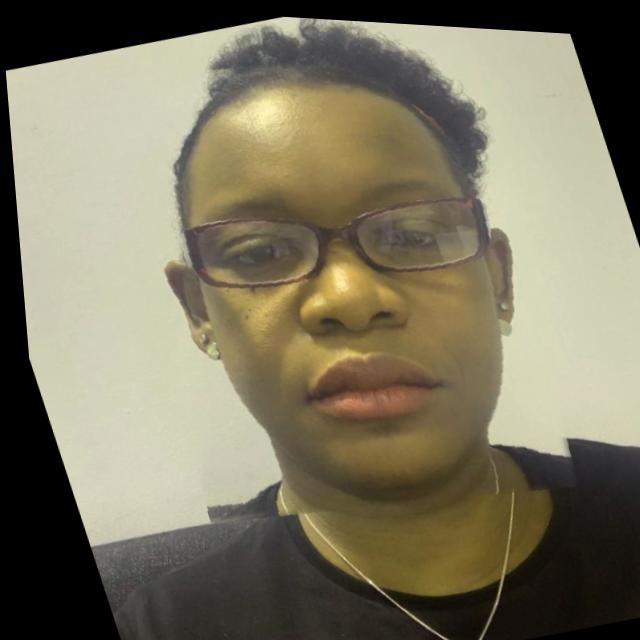sad: (72, 3, 601, 561)
